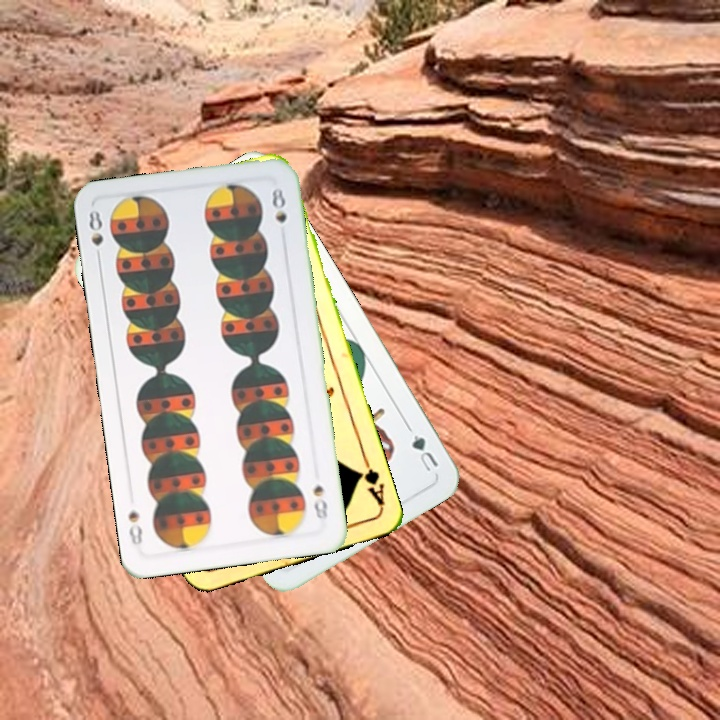GA: (353, 452, 388, 510)
GU: (407, 430, 441, 477)
S8: (84, 206, 106, 265), (309, 481, 330, 525)
